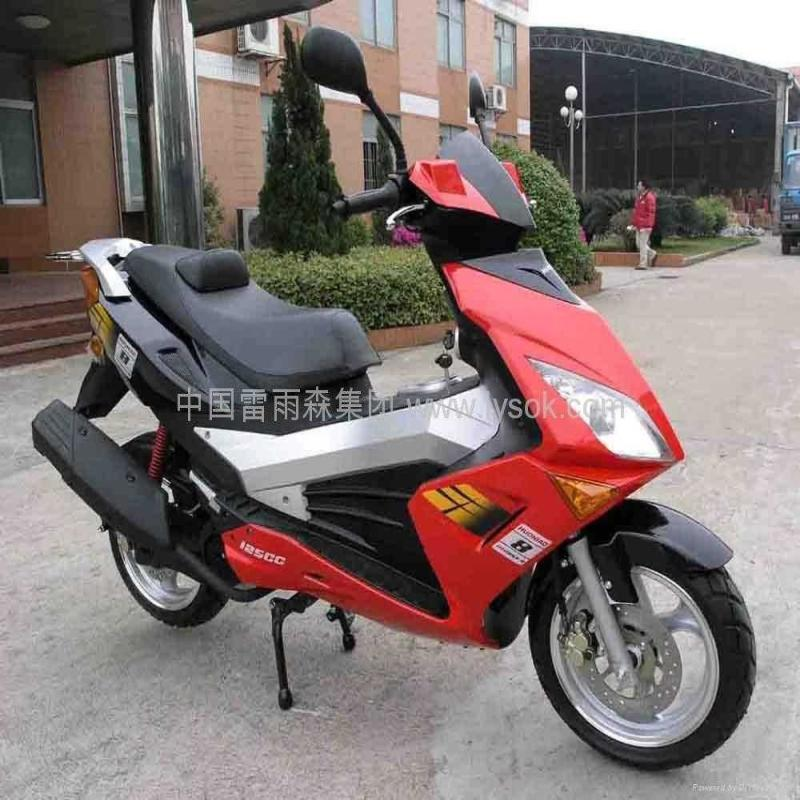bike: (40, 12, 768, 760)
